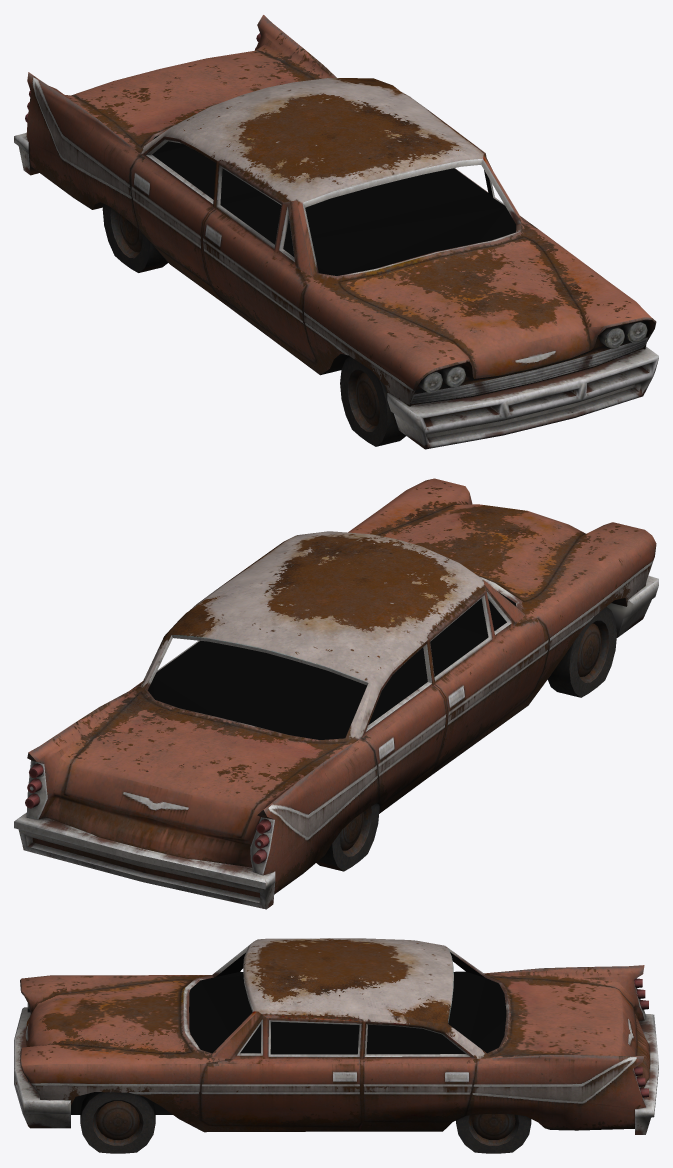
File: car3.fbx
3 renders of one model, top to bottom at view 1: azimuth 30°, elevation 25°; view 2: azimuth 150°, elevation 25°; view 3: azimuth 270°, elevation 25°, orthographic. The views are drawn at different scales.
Visible parts, largest first — view 1: Object001; view 2: Object001; view 3: Object001.
Boxes of the visible parts, <box> form: Object001: <box>14,15,658,449</box>; Object001: <box>14,478,658,909</box>; Object001: <box>14,938,658,1153</box>.
Bounding box in the file's own units: 154 × 107 × 431.
Materials: 1 (1 with a texture image).
